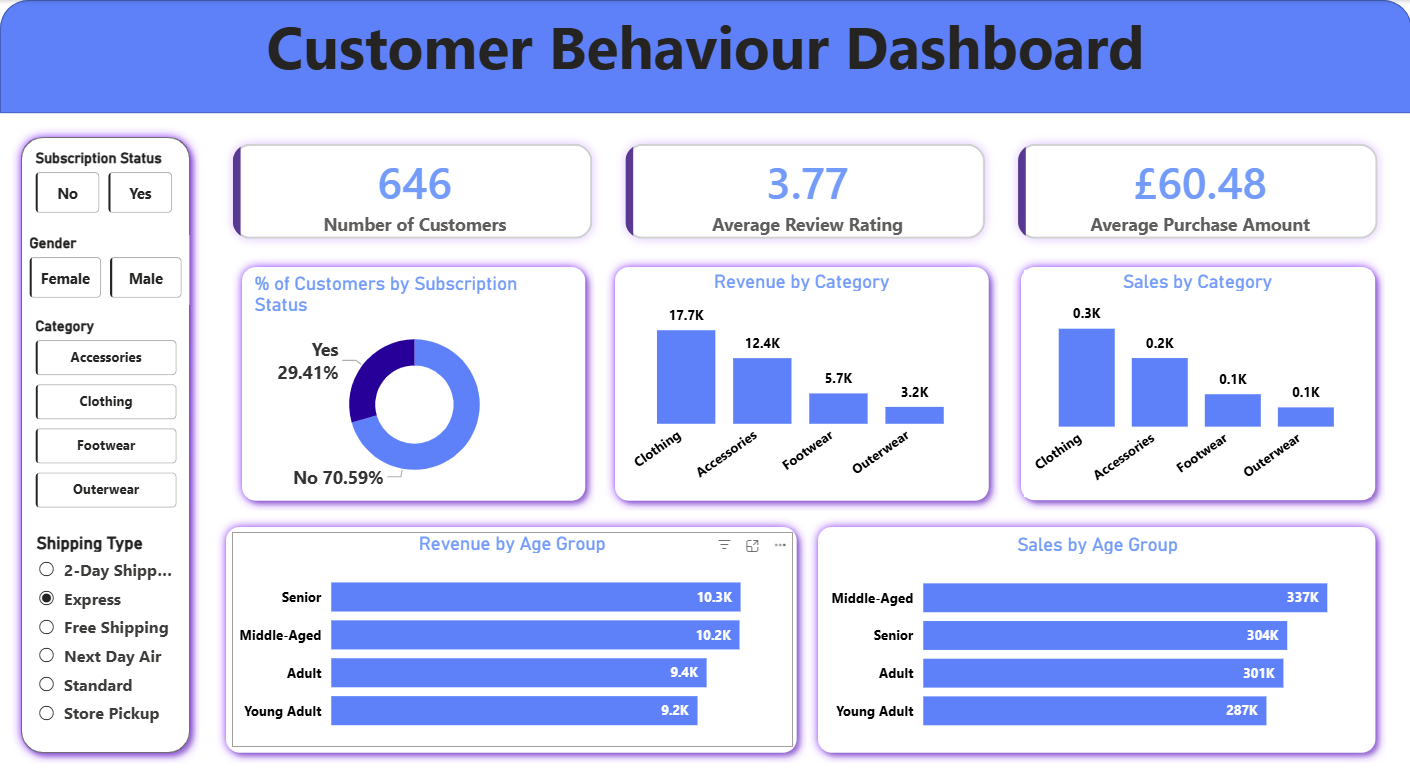

This screenshot's page, from the dashboard's own definition file:
{"tool":"powerbi","page":{"name":"Page 1","canvas":[1280,720],"ordinal":0},"visuals":[{"type":"cardVisual","fields":{"Data":["customer_behaviour customer.Number of Customers","customer_behaviour customer.Average Review Rating","customer_behaviour customer.Average Purchase Amount"]},"box":[183.1,102.1,1096.9,142.6],"z":0},{"type":"shape","box":[0,0,1280,102.8],"z":1000},{"type":"textbox","box":[187.7,0,904.1,85.2],"z":2000},{"type":"shape","box":[210.7,232.8,329.4,230.1],"z":3000},{"type":"donutChart","title":"% of Customers by Subscription Status","fields":{"Category":["customer_behaviour customer.subscription_status"],"Y":["CountNonNull(customer_behaviour customer.customer_id)"]},"box":[225.4,246.6,300,202.4],"z":4000},{"type":"shape","box":[916.5,232.8,339.3,229.7],"z":5000},{"type":"shape","box":[548.4,232.8,357,230.1],"z":6000},{"type":"shape","box":[196,468.4,535.6,222.7],"z":7000},{"type":"shape","box":[732.5,468.4,523.6,222.7],"z":9000,"group":"g1"},{"type":"clusteredColumnChart","title":"Revenue by Category","fields":{"Category":["customer_behaviour customer.category"],"Y":["Sum(customer_behaviour customer.purchase_amount)"]},"box":[563.2,244.8,327.6,202.4],"z":9001},{"type":"clusteredColumnChart","title":"Sales by Category","fields":{"Category":["customer_behaviour customer.category"],"Y":["CountNonNull(customer_behaviour customer.customer_id)"]},"box":[928.5,244.6,314.7,206],"z":9002},{"type":"shape","box":[10,115.2,171.4,576.7],"z":9003},{"type":"advancedSlicerVisual","title":"Subscription Status","fields":{"Values":["customer_behaviour customer.subscription_status"]},"box":[27.6,136.2,135.3,62.6],"z":9004},{"type":"advancedSlicerVisual","title":"Gender","fields":{"Values":["customer_behaviour customer.gender"]},"box":[21.8,213.1,149.6,62.6],"z":9005},{"type":"advancedSlicerVisual","title":"Category","fields":{"Values":["customer_behaviour customer.category"]},"box":[27.2,288.4,138.7,180.5],"z":9006},{"type":"listSlicer","title":"Shipping Type","fields":{"Values":["customer_behaviour customer.shipping_type"]},"box":[28.1,482.4,136,185],"z":9007},{"type":"clusteredBarChart","title":"Revenue by Age Group ","fields":{"Y":["Sum(customer_behaviour customer.purchase_amount)"],"Category":["customer_behaviour customer.age_group"]},"box":[210.7,482.2,508,195.1],"z":9008},{"type":"clusteredBarChart","title":"Sales by Age Group ","fields":{"Category":["customer_behaviour customer.age_group"],"Y":["Sum(customer_behaviour customer.customer_id)"]},"box":[746.8,482.8,496,194.2],"z":9009,"group":"g1"},{"type":"group","id":"g1","title":"Group 3","box":[732.5,468.4,523.6,222.7],"z":9012}]}

Visuals, with their boxes in screenshot pixels (x1, y1, x2, y2), scaled from the page's 1280x720 canvas onto the 1410x780 screenshot:
cardVisual - customer_behaviour customer.Number of Customers x customer_behaviour customer.Average Review Rating: 202, 111, 1409, 265
shape: 0, 0, 1409, 111
textbox: 207, 0, 1203, 92
shape: 232, 252, 595, 501
"% of Customers by Subscription Status" donutChart: 248, 267, 579, 486
shape: 1010, 252, 1383, 501
shape: 604, 252, 997, 501
shape: 216, 507, 806, 749
shape: 807, 507, 1384, 749
"Revenue by Category" clusteredColumnChart: 620, 265, 981, 484
"Sales by Category" clusteredColumnChart: 1023, 265, 1369, 488
shape: 11, 125, 200, 750
"Subscription Status" advancedSlicerVisual: 30, 148, 179, 215
"Gender" advancedSlicerVisual: 24, 231, 189, 299
"Category" advancedSlicerVisual: 30, 312, 183, 508
"Shipping Type" listSlicer: 31, 523, 181, 723
"Revenue by Age Group " clusteredBarChart: 232, 522, 792, 734
"Sales by Age Group " clusteredBarChart: 823, 523, 1369, 733
"Group 3" group: 807, 507, 1384, 749
